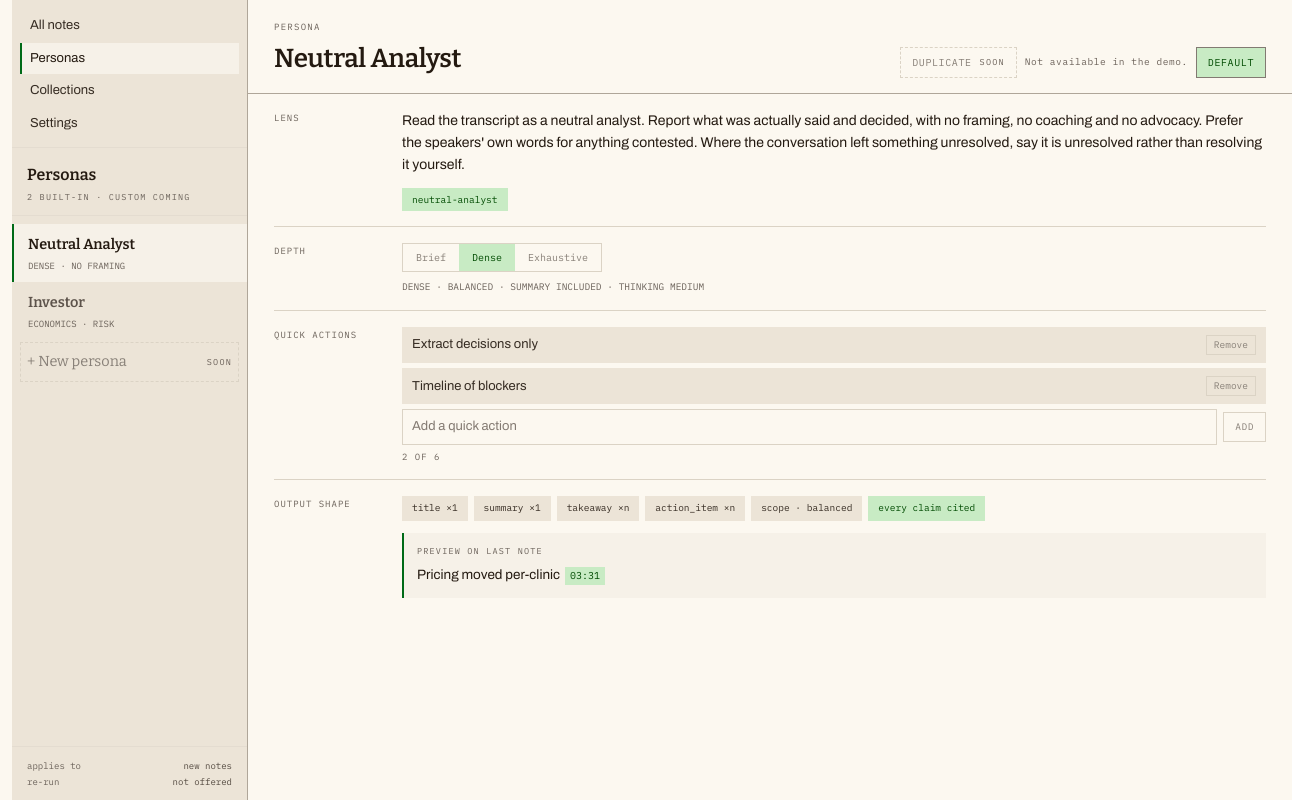
Test: PersonasShell in the demo › turns off Set as default on a lens that is not the default
The width and height of the screenshot is (1292, 800).
Click the tab "Investor economics · risk".
click(130, 311)  # box top-left (12, 282), bottom-right (247, 340)
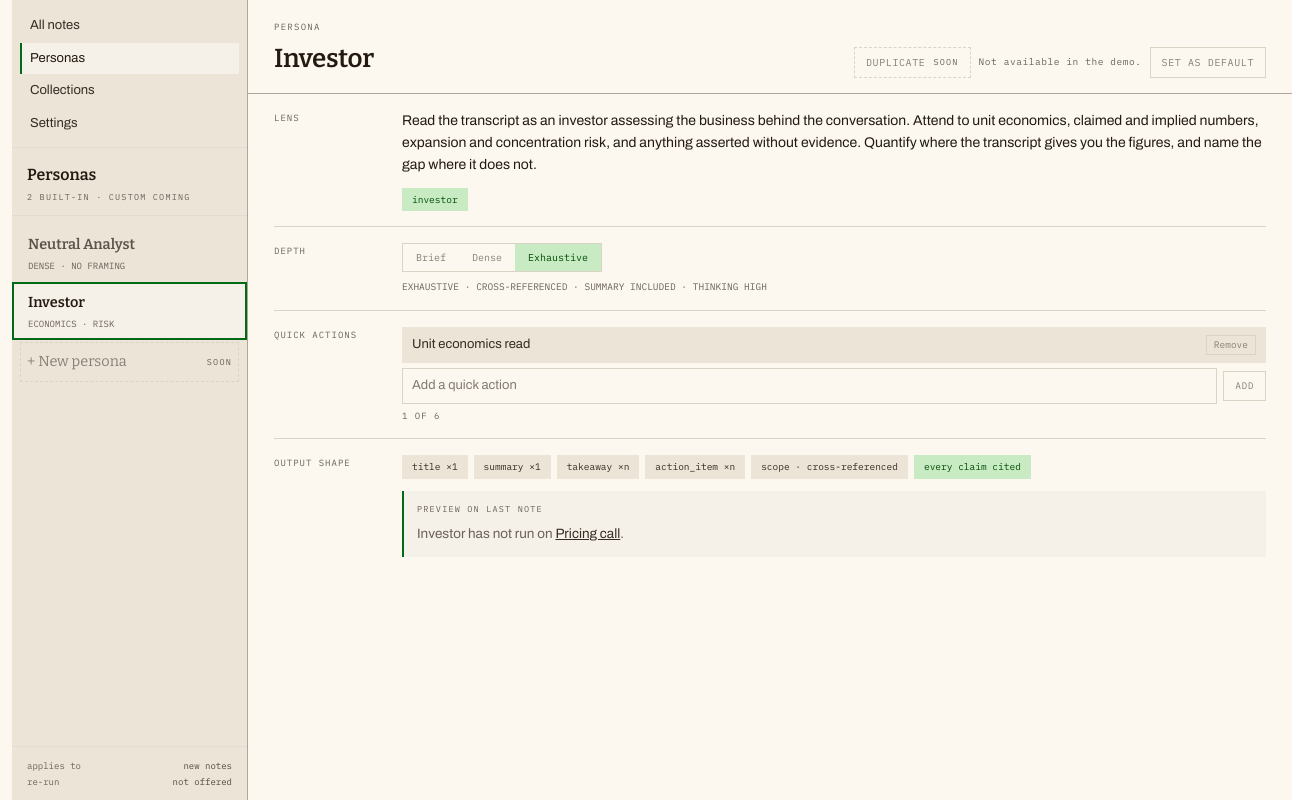
Expected: the button "Set as default" is disabled, top-left (1150, 46), bottom-right (1266, 78)
